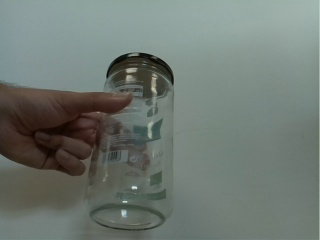pote cristal: (85, 51, 182, 233)
